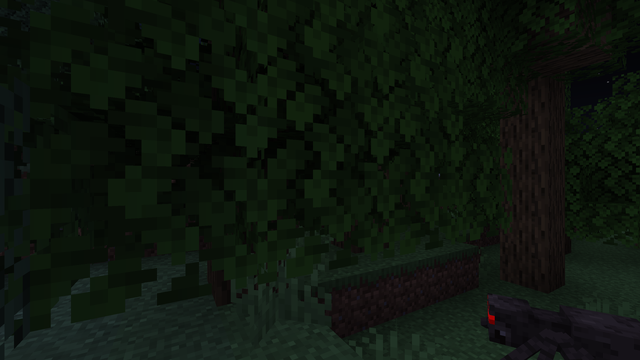araignees: (468, 278, 633, 359)
